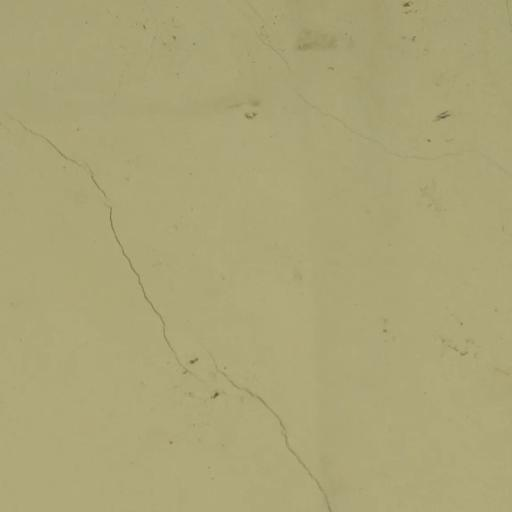minor_crack: (0, 98, 343, 512)
